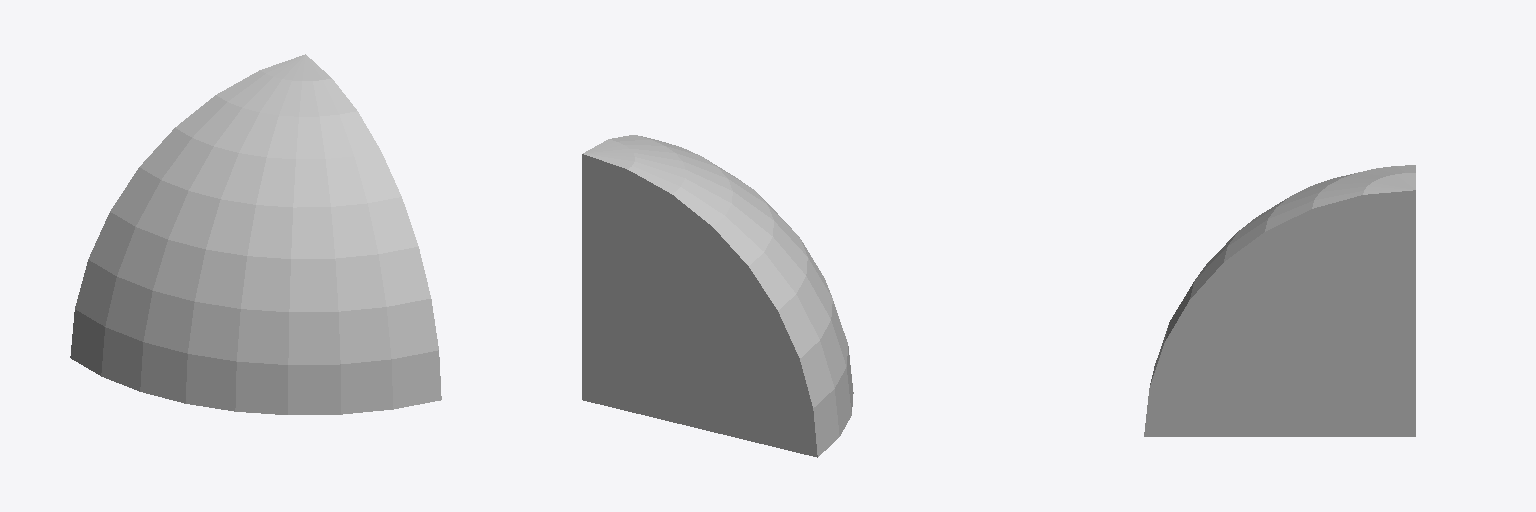
Rendered from octant.obj.
The picture shows the model from 3 angles: view 1: azimuth 30°, elevation 25°; view 2: azimuth 150°, elevation 25°; view 3: azimuth 270°, elevation 25°; orthographic projection.
Bounding box in the file's own units: 2 × 2 × 2.